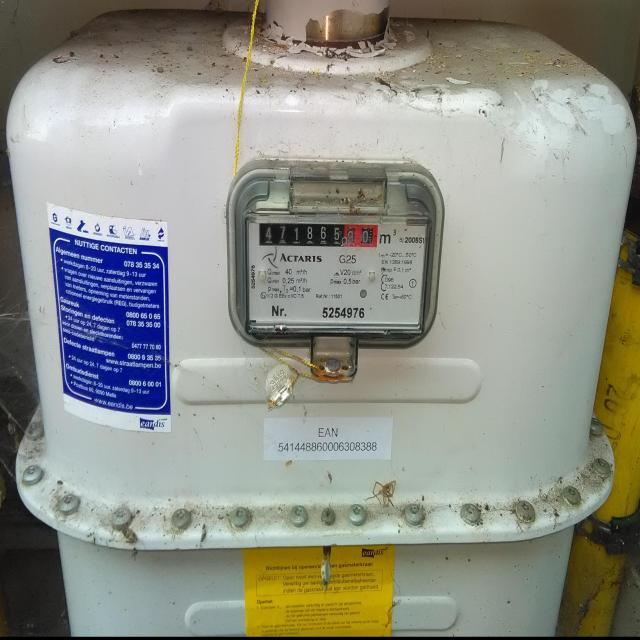gaz_meter: (245, 211, 424, 330)
indication: (258, 221, 378, 248)
